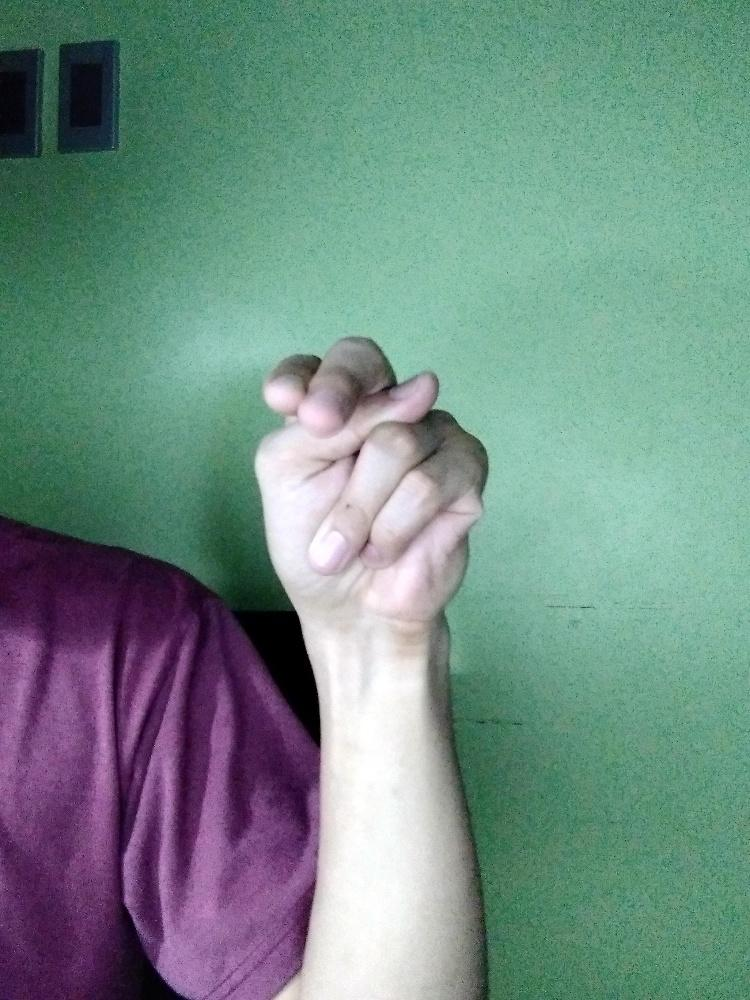n: (250, 333, 489, 635)
